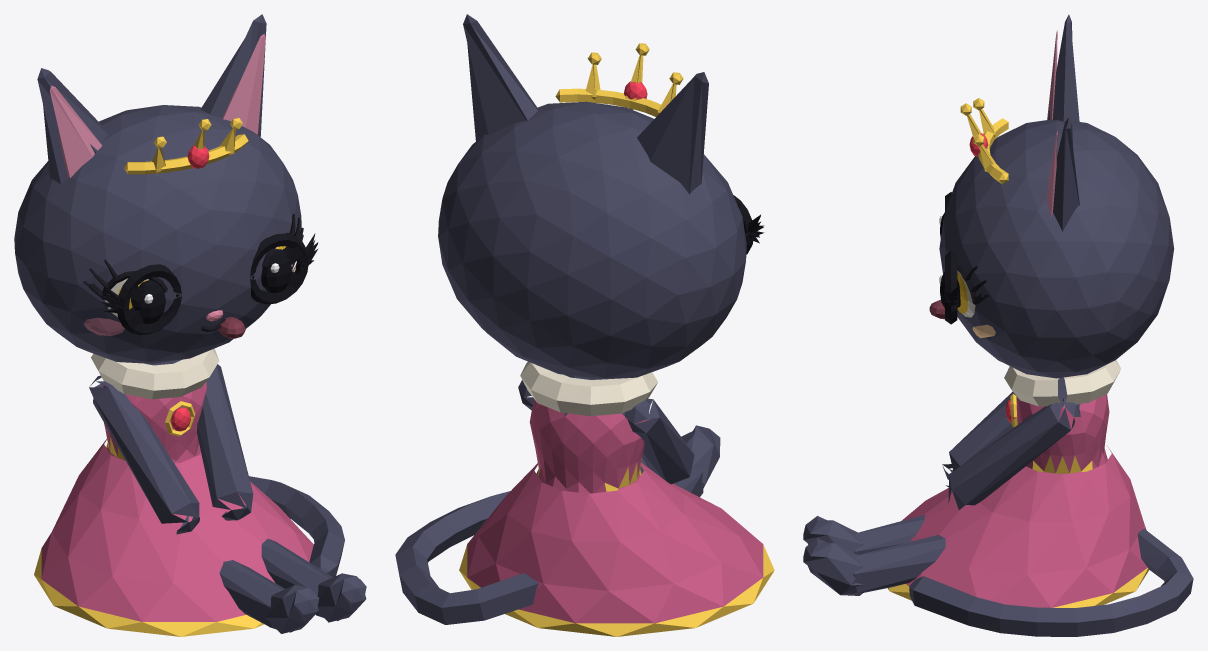
The model's file is Awa.glb.
3 views of the same model, side by side, from view 1: azimuth 30°, elevation 25°; view 2: azimuth 150°, elevation 25°; view 3: azimuth 270°, elevation 25° (orthographic). The views are drawn at different scales.
Parts seen in each view (by area): view 1: Head, Dress, Arm_R, Arm_L, Leg_R, Leg_L, Collar, Body, Tail, Eyes_happy, Eyes_wide, Eyes_closed (+2 smaller); view 2: Head, Dress, Body, Tail, Collar, Arm_R, Leg_R; view 3: Head, Dress, Tail, Arm_L, Leg_L, Body, Collar, Leg_R, Arm_R, Eyes_open, Eyes_happy.
Boxes of the visible parts, box(x1,y1,x2,y2) form: Head: box(14, 14, 301, 363); Dress: box(34, 439, 313, 636); Arm_R: box(89, 375, 199, 534); Arm_L: box(197, 364, 253, 520); Leg_R: box(219, 560, 319, 633); Leg_L: box(261, 538, 366, 622); Collar: box(91, 348, 219, 399); Body: box(102, 359, 206, 463); Tail: box(249, 476, 344, 577); Eyes_happy: box(100, 233, 318, 308); Eyes_wide: box(133, 249, 292, 323); Eyes_closed: box(100, 240, 318, 335); Head: box(438, 14, 746, 379); Dress: box(459, 463, 774, 636); Body: box(529, 374, 647, 493); Tail: box(395, 491, 538, 624); Collar: box(520, 361, 657, 416); Arm_R: box(624, 398, 694, 484); Leg_R: box(673, 425, 720, 496); Head: box(939, 14, 1174, 378); Dress: box(888, 446, 1148, 607); Tail: box(909, 528, 1193, 636); Arm_L: box(946, 397, 1080, 509); Leg_L: box(803, 534, 945, 595); Body: box(1005, 377, 1109, 474); Collar: box(1004, 360, 1120, 406); Leg_R: box(803, 515, 924, 554); Arm_R: box(942, 391, 1017, 479); Eyes_open: box(957, 264, 989, 317); Eyes_happy: box(945, 192, 957, 305).
Bounding box in the file's own units: 0.5573 × 0.9388 × 0.6647.
